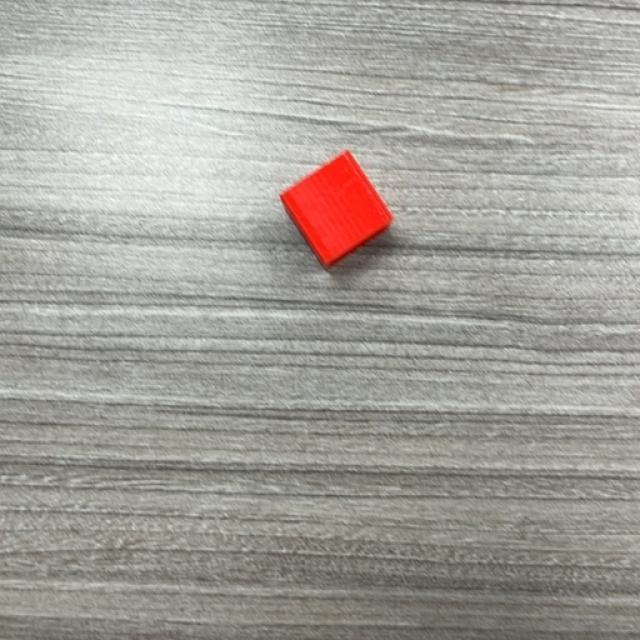Rojo: (279, 151, 395, 270)
